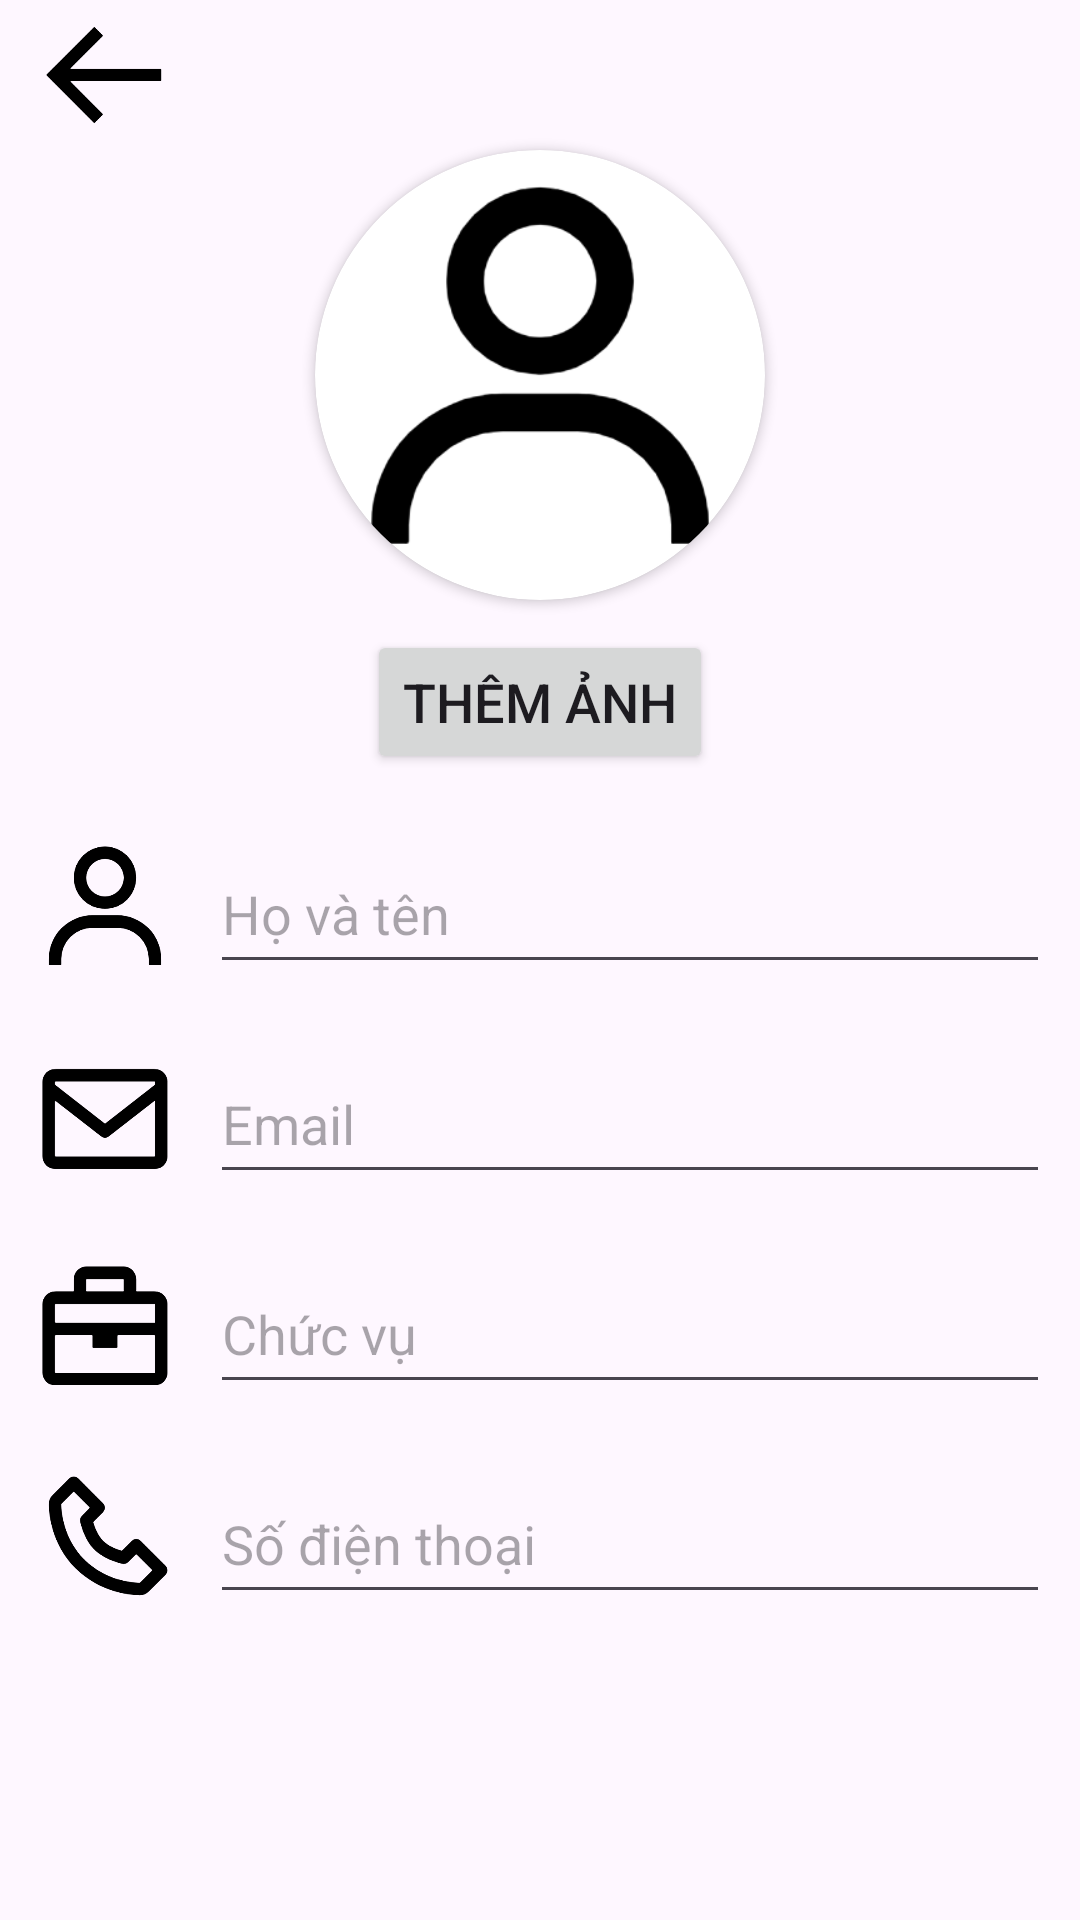

Locate icon controls on the screen. Image size 1080 x 1920, boxes as (x1, y1, x2, y2).
back: (46, 27, 162, 123)
briefcase: (42, 1266, 168, 1385)
phone: (49, 1476, 168, 1596)
